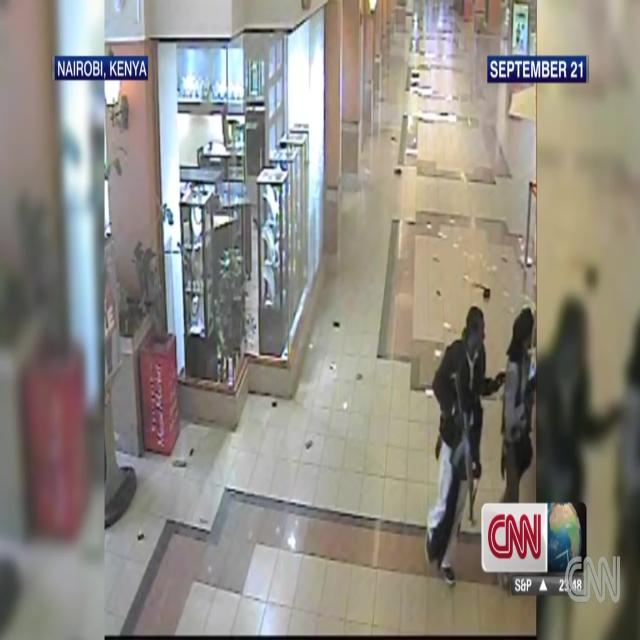Weapon: (452, 362, 486, 528)
